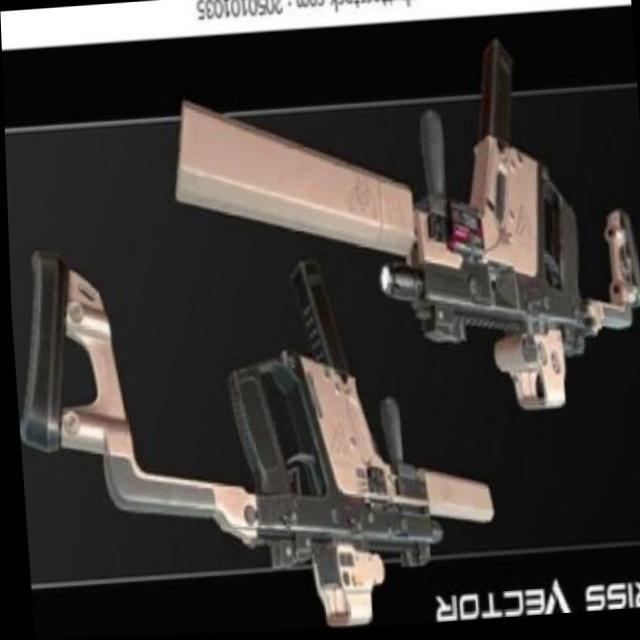weapon: (7, 219, 496, 640), (162, 31, 640, 436)
